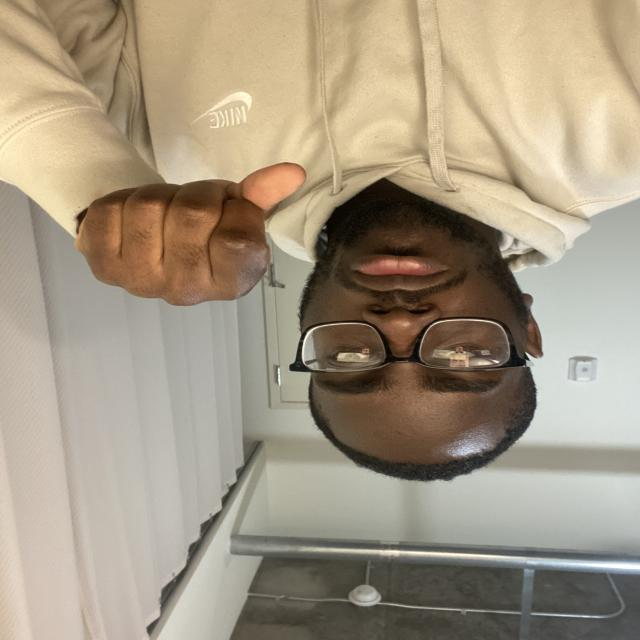Yes: (56, 120, 376, 351)
